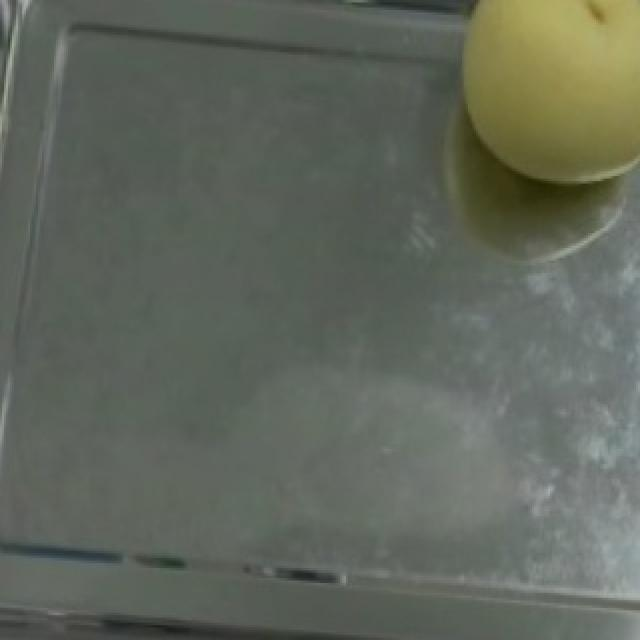Fruit: (436, 0, 640, 203)
